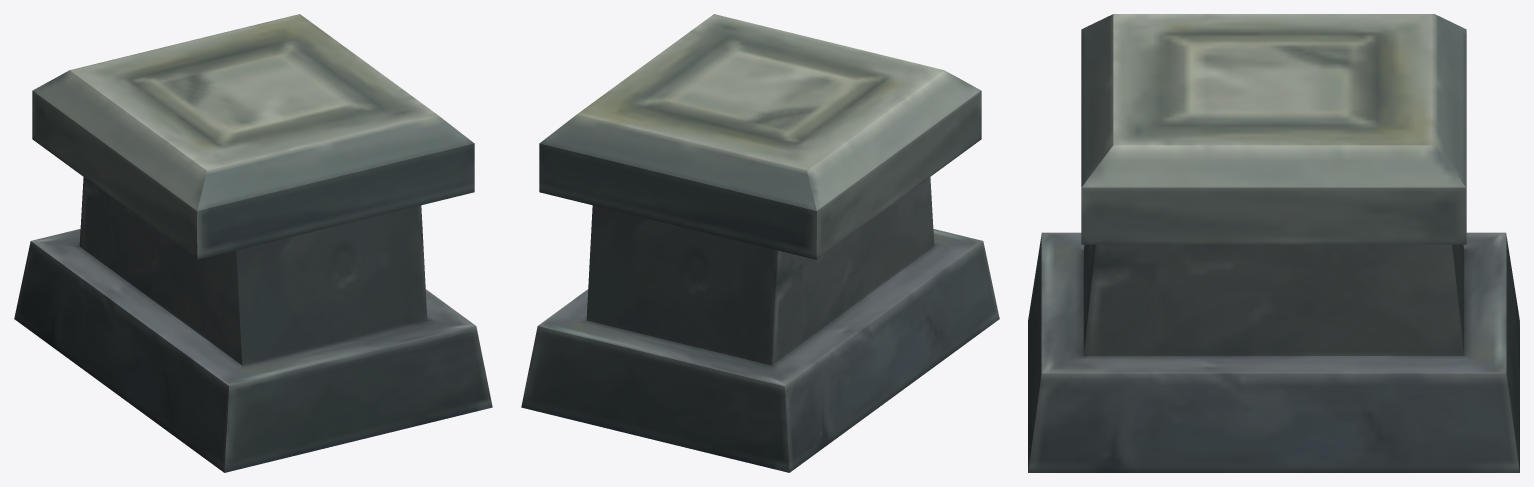
Rendered from fb_fyqc_jz_02_j.FBX.
3 views of the same model, side by side, from view 1: azimuth 30°, elevation 25°; view 2: azimuth 150°, elevation 25°; view 3: azimuth 270°, elevation 25° (orthographic). The views are drawn at different scales.
Visible parts, largest first — view 1: Object002; view 2: Object002; view 3: Object002.
Boxes of the visible parts, left/top/right/bottom form: Object002: left=14, top=14, right=492, bottom=472; Object002: left=521, top=14, right=999, bottom=472; Object002: left=1028, top=14, right=1519, bottom=472.
Bounding box in the file's own units: 228 × 213 × 299.
